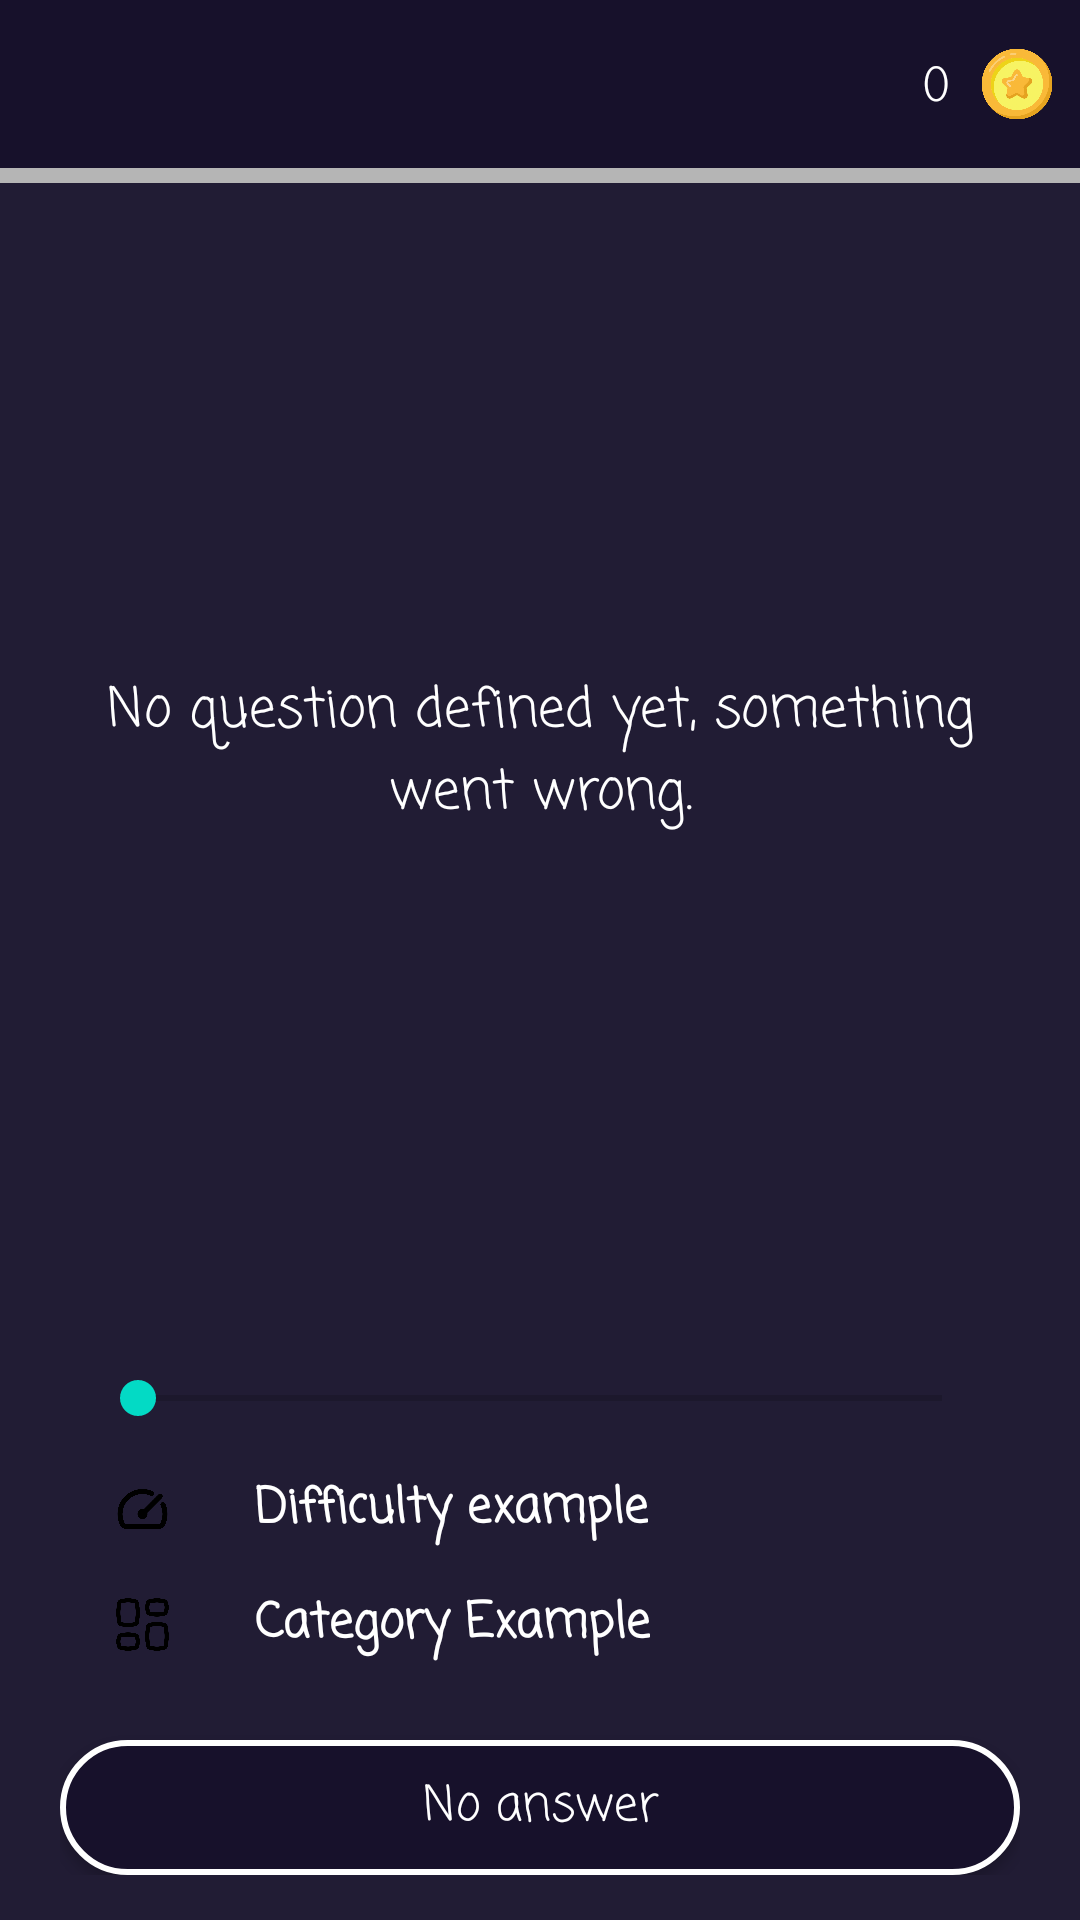

Where to tap for icons on this 1080*1920 app screen, as (x,y):
gauge: (142,1509)
points: (1017,84)
